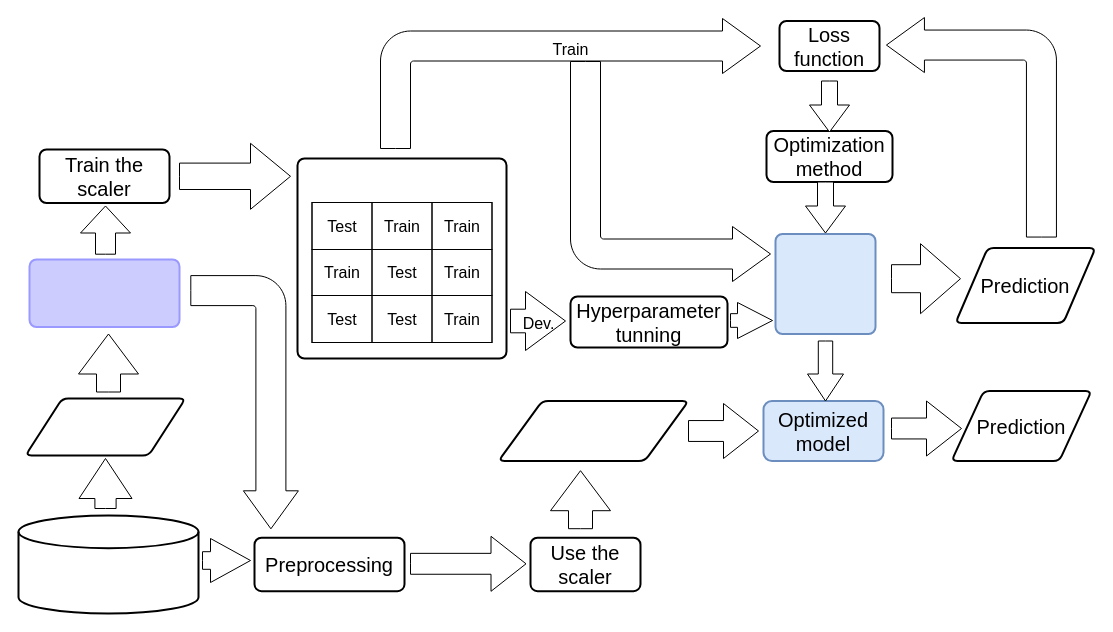
The diagram is 1113 pixels wide and 632 high, and some of its shapes have lost their labels. Here are the shapes that lost their labels. From the top down, the box of each, then its label:
(296, 157, 507, 359): K-fold cross validation
(28, 258, 180, 328): Feature engineering
(774, 232, 876, 334): Model
(24, 397, 186, 456): Training dataset
(497, 400, 689, 462): Testing dataset
(17, 514, 199, 614): Dataset
